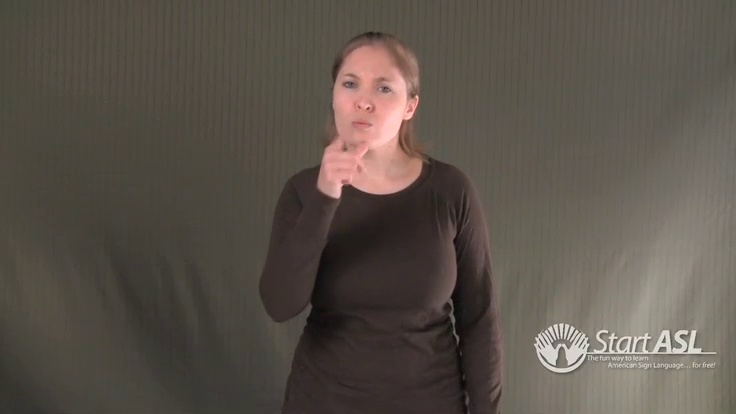who: (305, 134, 376, 197)
